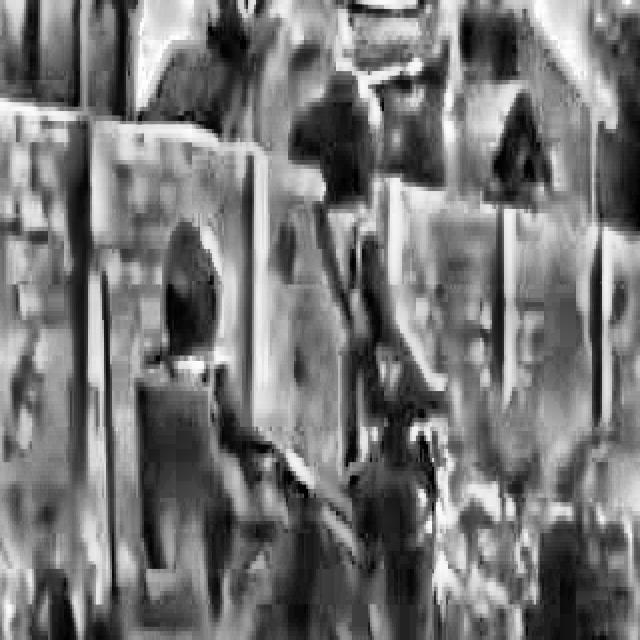Lori: (60, 35, 506, 640)
